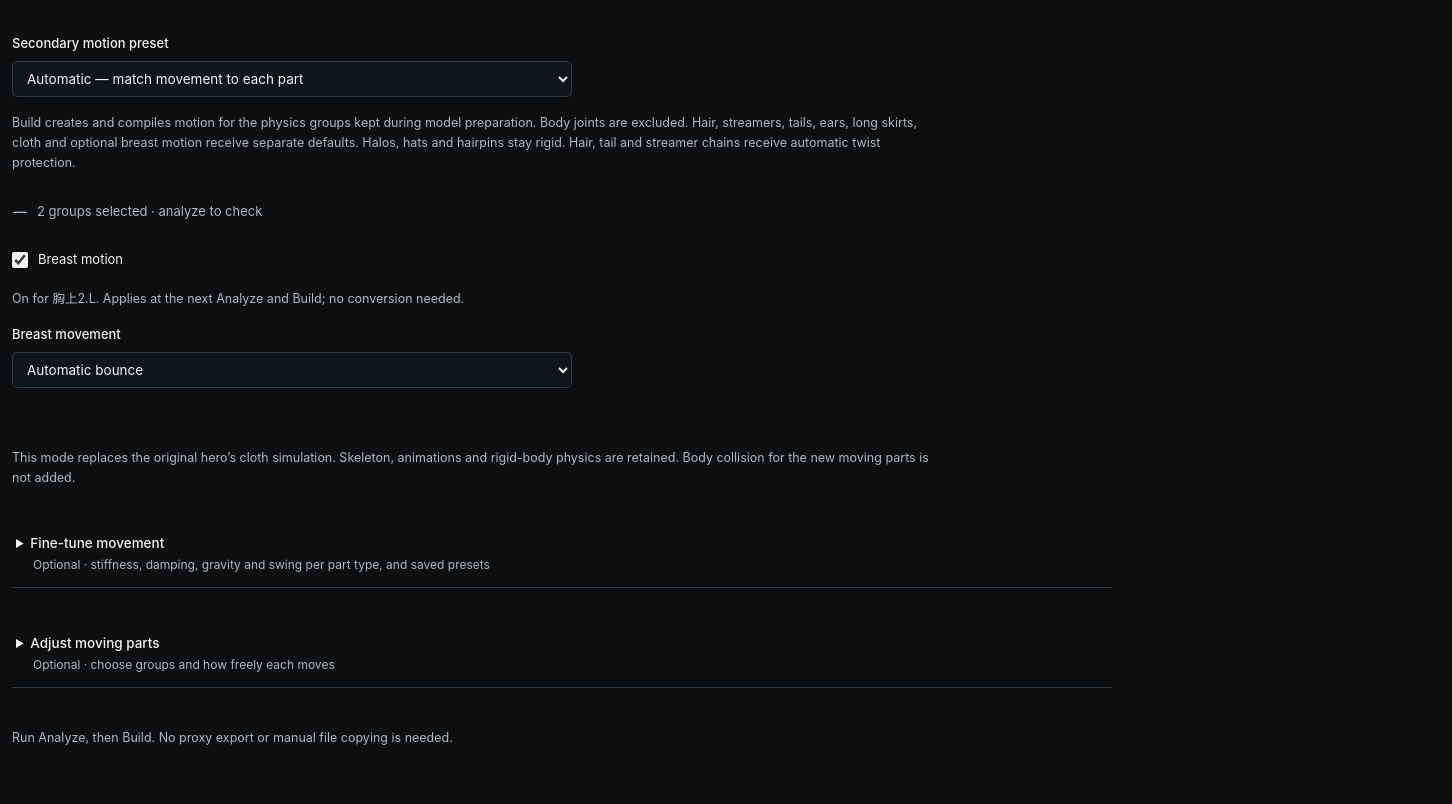
Test: Fine-tune movement › offers every common part type before the model is analyzed
The image size is (1452, 804).
Click the text "Fine-tune movement". click: (97, 542)
box: [30,534,164,550]
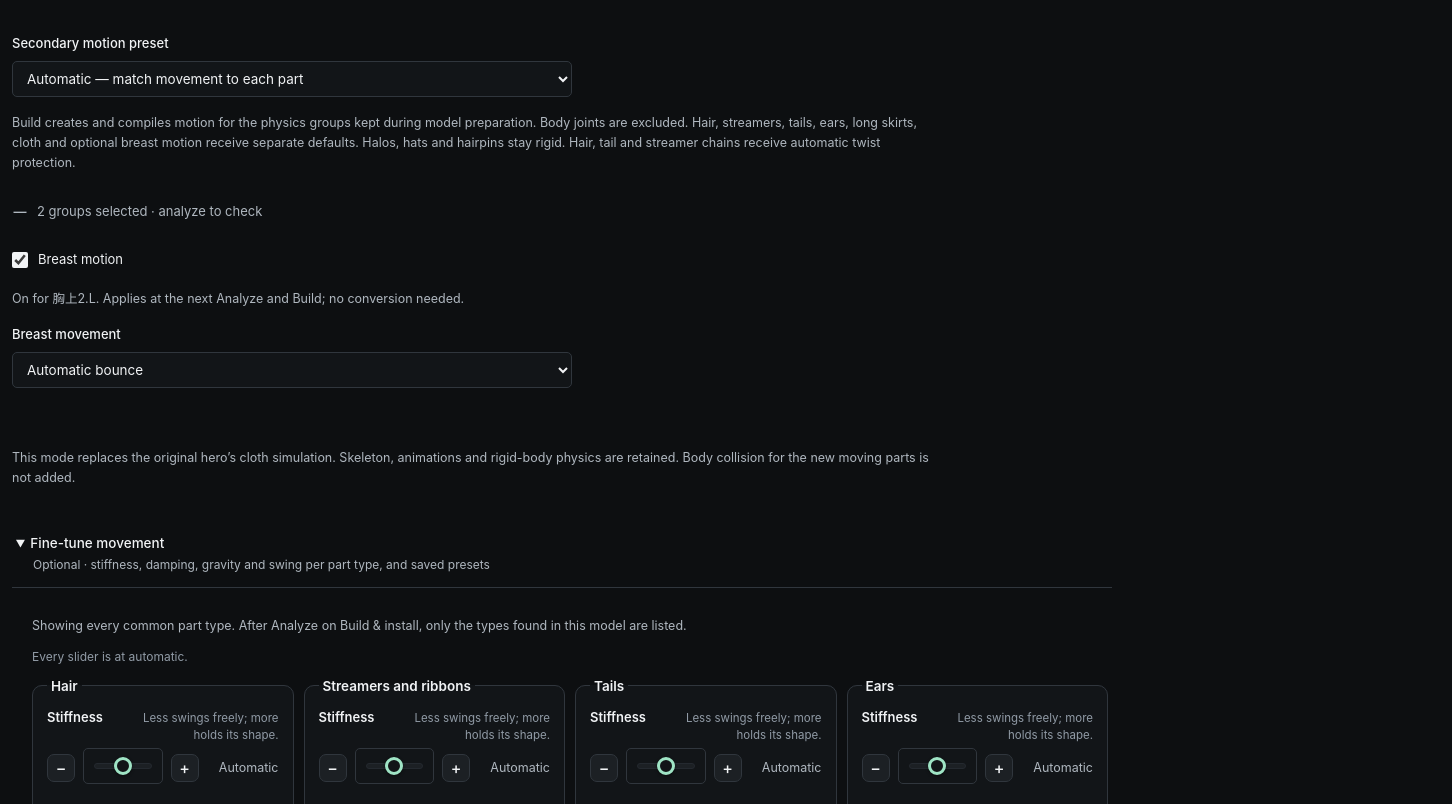
Expected: the text "Showing every common part type" is shown, [32,618,687,633]
